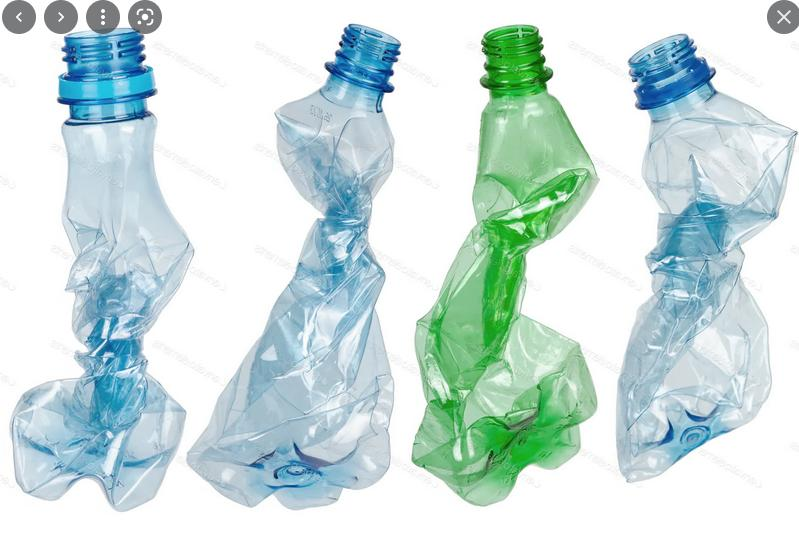Plastic: (184, 18, 408, 514), (410, 19, 606, 514), (7, 29, 184, 527), (613, 31, 796, 502)
